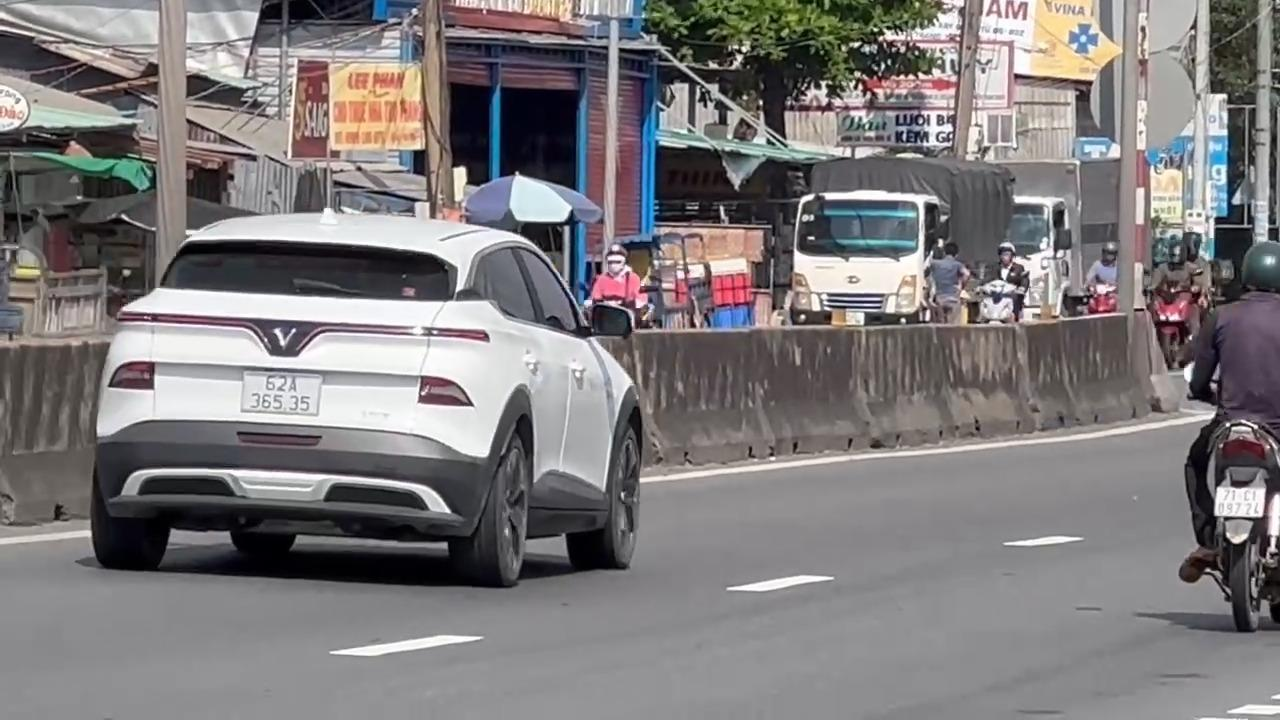bien_so: (240, 369, 322, 416)
